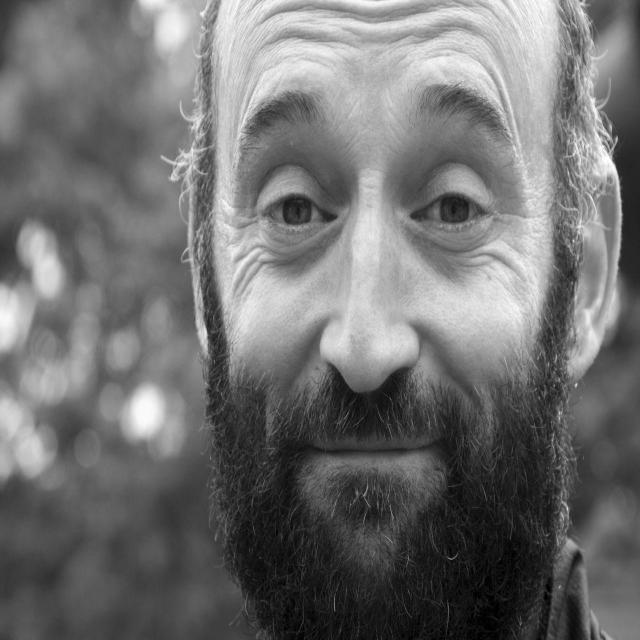no-glass: (264, 180, 492, 236)
